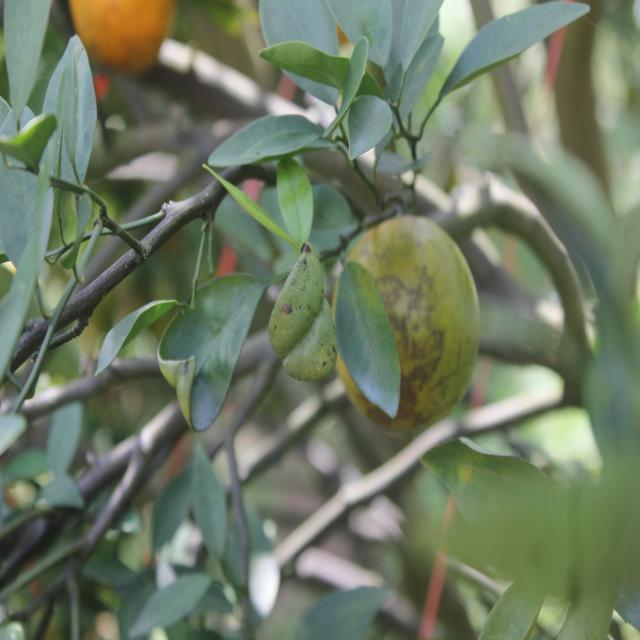blackspot: (274, 243, 343, 385)
